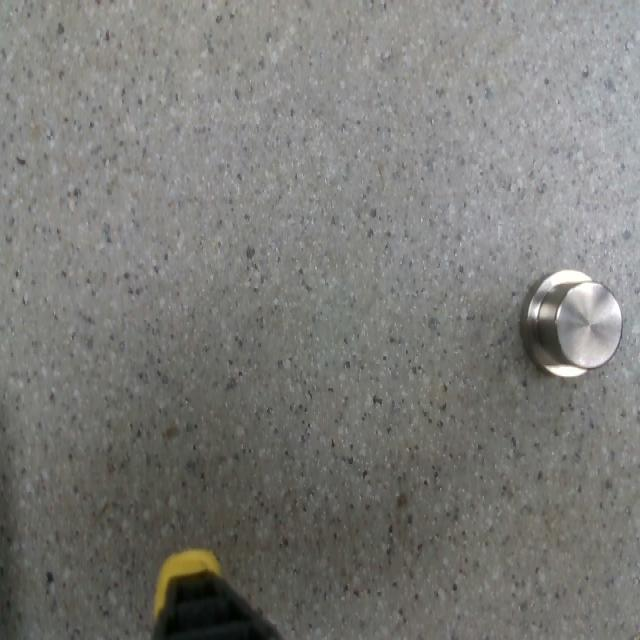sensor: (518, 267, 622, 378)
